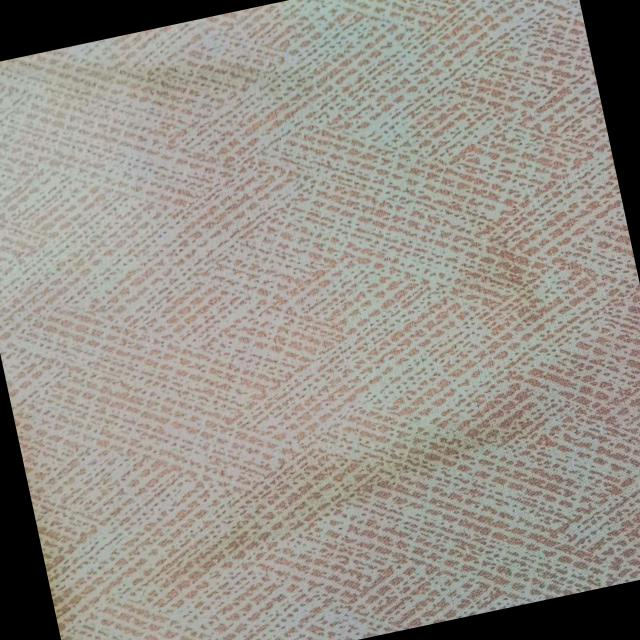stain: (125, 396, 548, 602), (104, 33, 295, 139), (439, 213, 558, 348)
